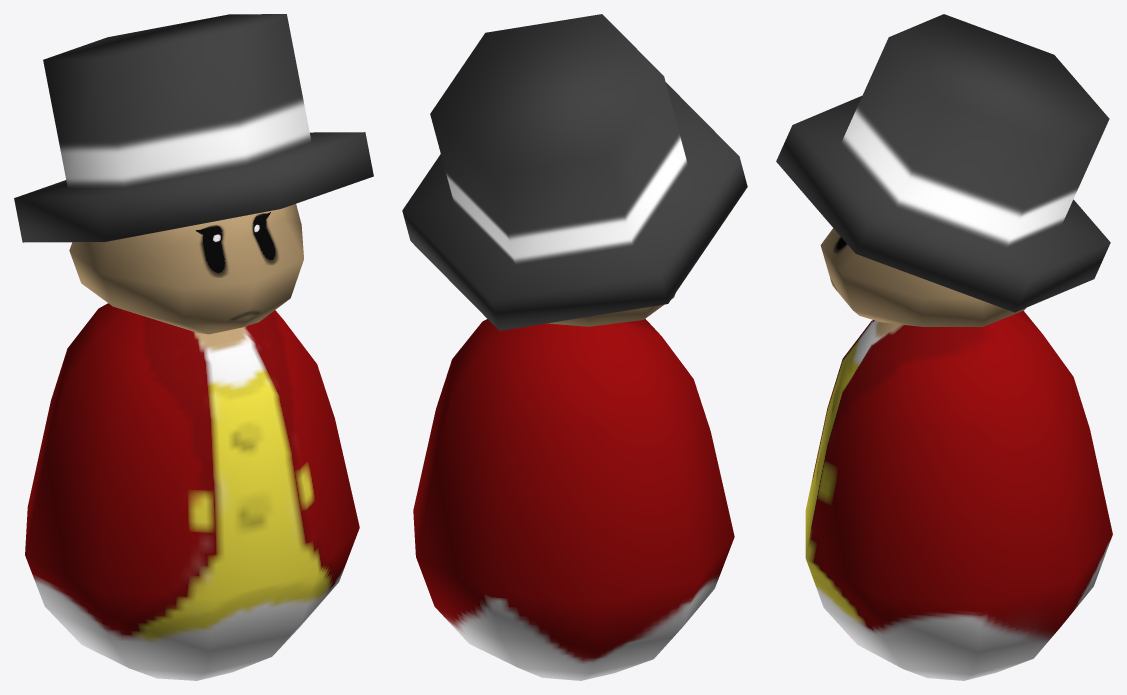
File: main_cha.fbx
3 renders of one model, left to right at view 1: azimuth 30°, elevation 25°; view 2: azimuth 150°, elevation 25°; view 3: azimuth 270°, elevation 25°, orthographic. The views are drawn at different scales.
Visible parts, largest first — view 1: Sphere, hat, head; view 2: Sphere, hat, head; view 3: Sphere, hat, head.
Part boxes in pixels (x1,y1,x2,y2): Sphere: (25,303,359,680); hat: (14,14,373,242); head: (69,204,303,334); Sphere: (413,319,734,680); hat: (402,14,747,330); head: (546,293,675,326); Sphere: (805,311,1112,680); hat: (776,14,1110,312); head: (820,228,1025,326).
Size of the model in its own units: 226 by 477 by 231.
Materials: 3 (3 with a texture image).
